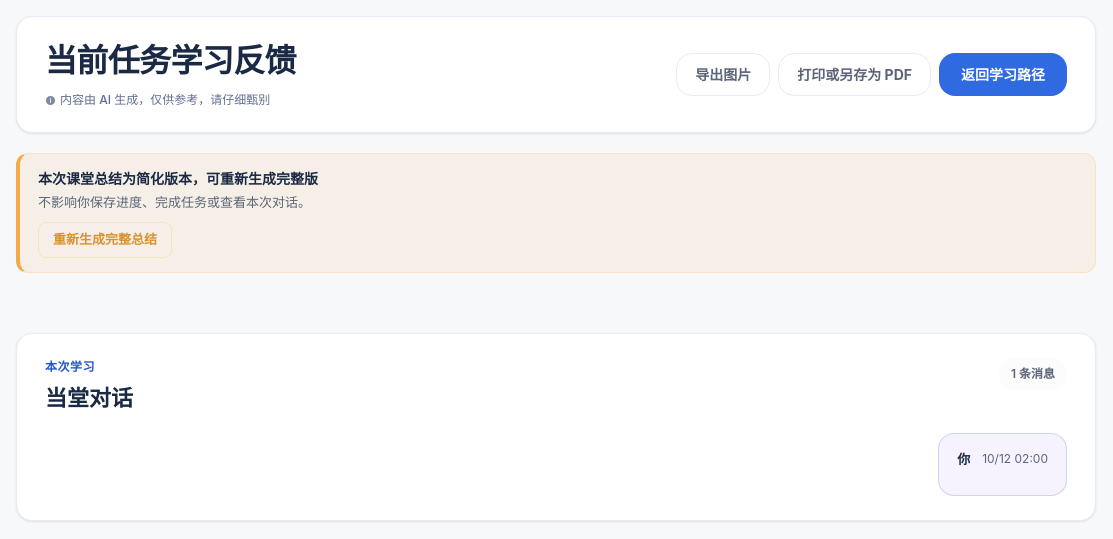
LearningEvaluationPage 降级总结重试 › 降级横幅给出重试入口；started 后进入轮询态并停用按钮
Check: the message "本次课堂总结为简化版本，可重新生成完整版 不影响你保存进度、完成任务或查看本次对话。 重新生成完整总结" is shown, box [16, 152, 1096, 272]
What coordinates should you click on to do the following:
click the button with class "evaluation-degraded__retry"
I would click on:
 (105, 240)
Its box is [38, 222, 172, 258].
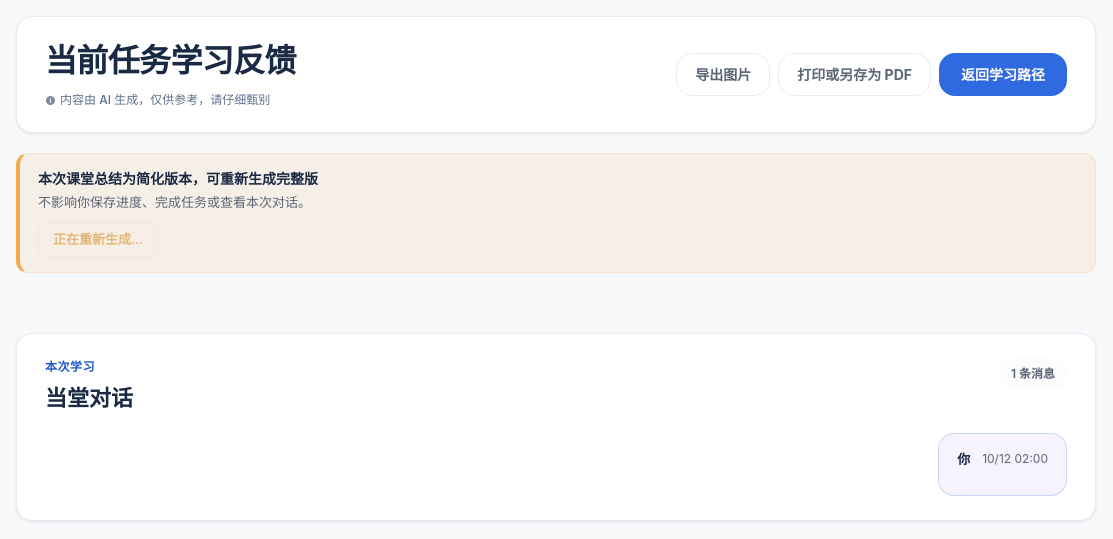
Check: the button with class "evaluation-degraded__retry" shows "正在重新生成", box [38, 222, 158, 258]
Check: the button with class "evaluation-degraded__retry" is disabled, box [38, 222, 158, 258]
